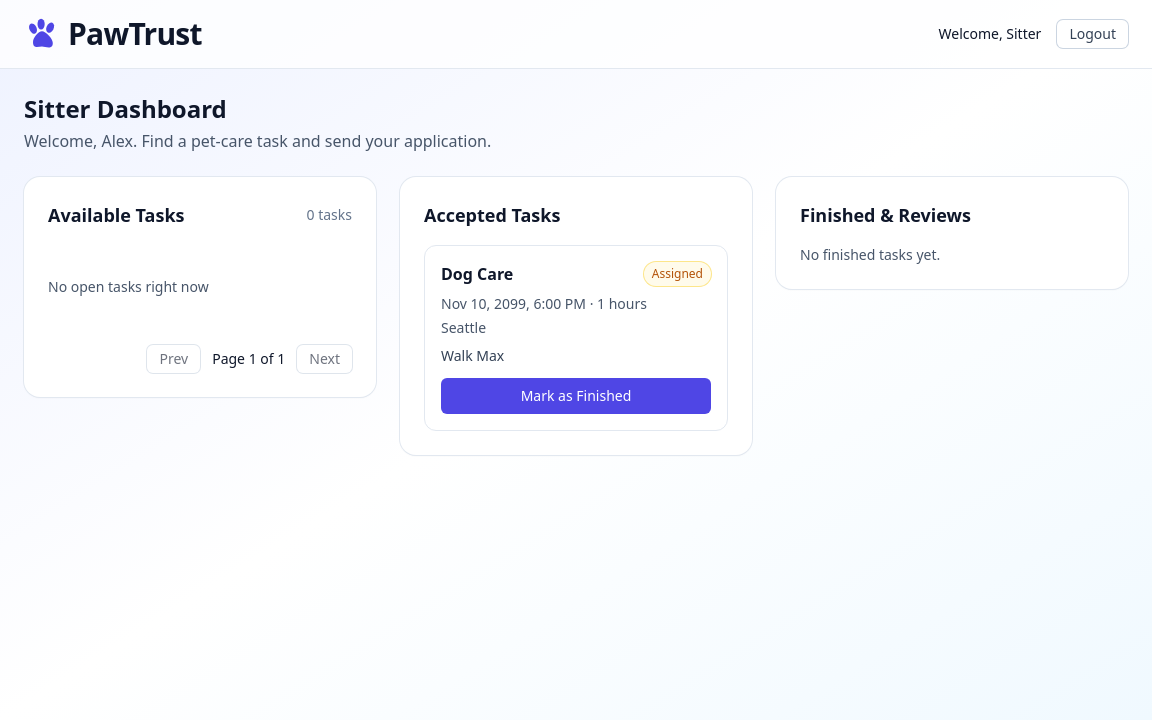
moves a completed task into Finished & Reviews without a reload
What coordinates should you click on to do the following:
click the button "Mark as Finished"
I would click on:
 (576, 396)
Its box is [441,378,711,414].
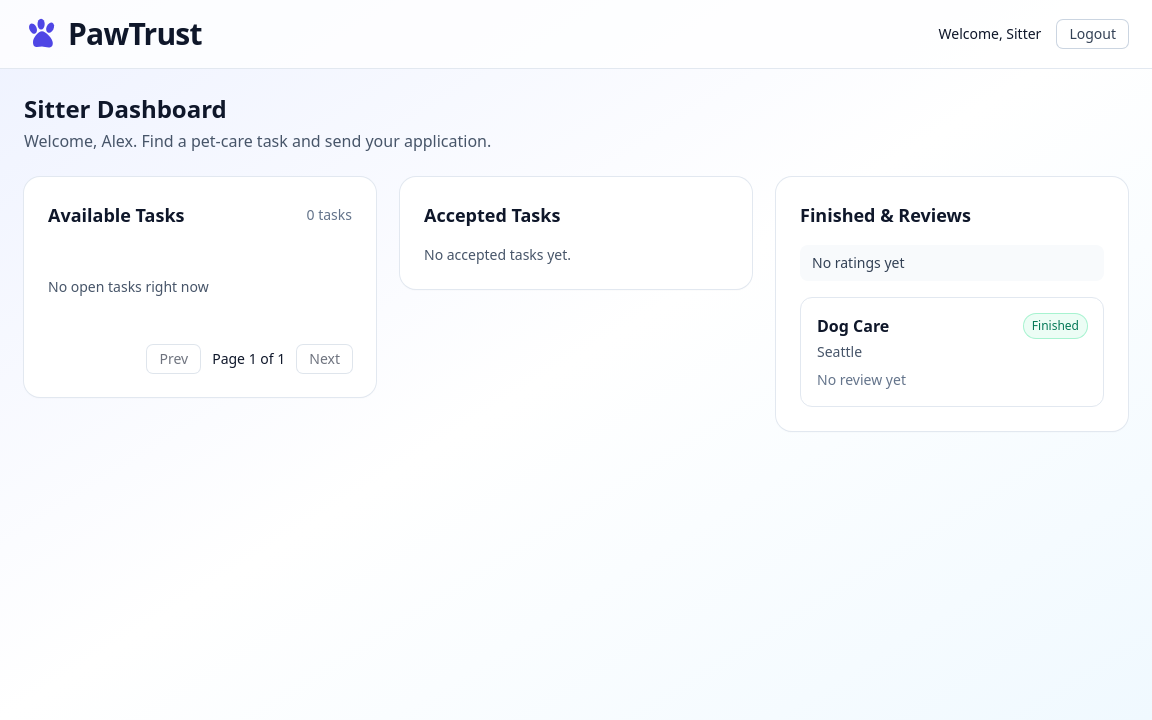
Expected: the heading "Dog Care" is shown, [817,314,889,338]
Expected: the text "No accepted tasks yet." is shown, [424,245,571,264]
